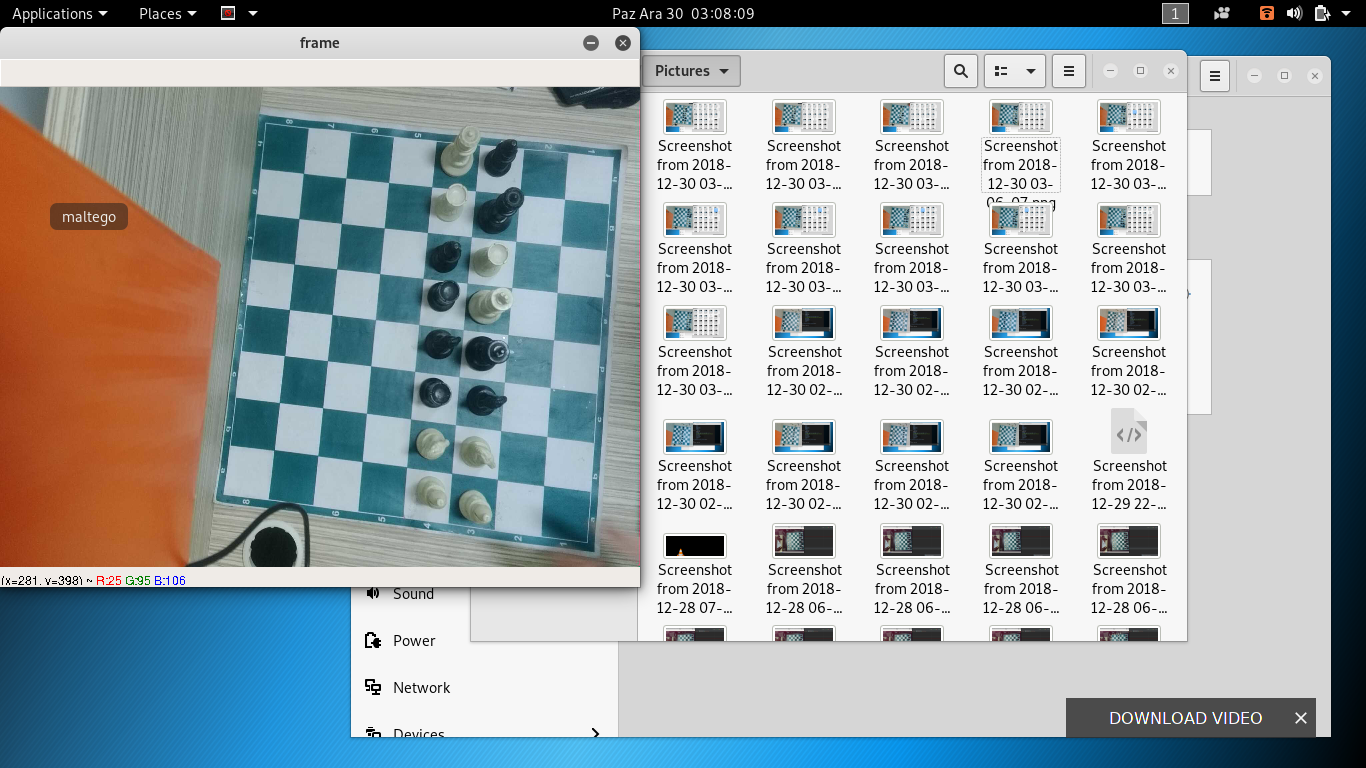BeyazAt: (460, 436, 495, 471), (416, 427, 449, 460)
BeyazFil: (455, 488, 495, 525), (417, 475, 449, 508)
BeyazKale: (473, 241, 510, 277), (436, 183, 469, 222)
BeyazSah: (470, 286, 513, 326)
BeyazVezir: (441, 125, 479, 177)
SiyahAt: (467, 386, 508, 416), (426, 328, 460, 359)
SiyahFil: (484, 137, 518, 176), (430, 239, 462, 273)
SiyahKale: (429, 280, 463, 311), (420, 374, 451, 408)
SiyahSah: (465, 333, 509, 370)
SiyahVezir: (476, 184, 525, 233)
